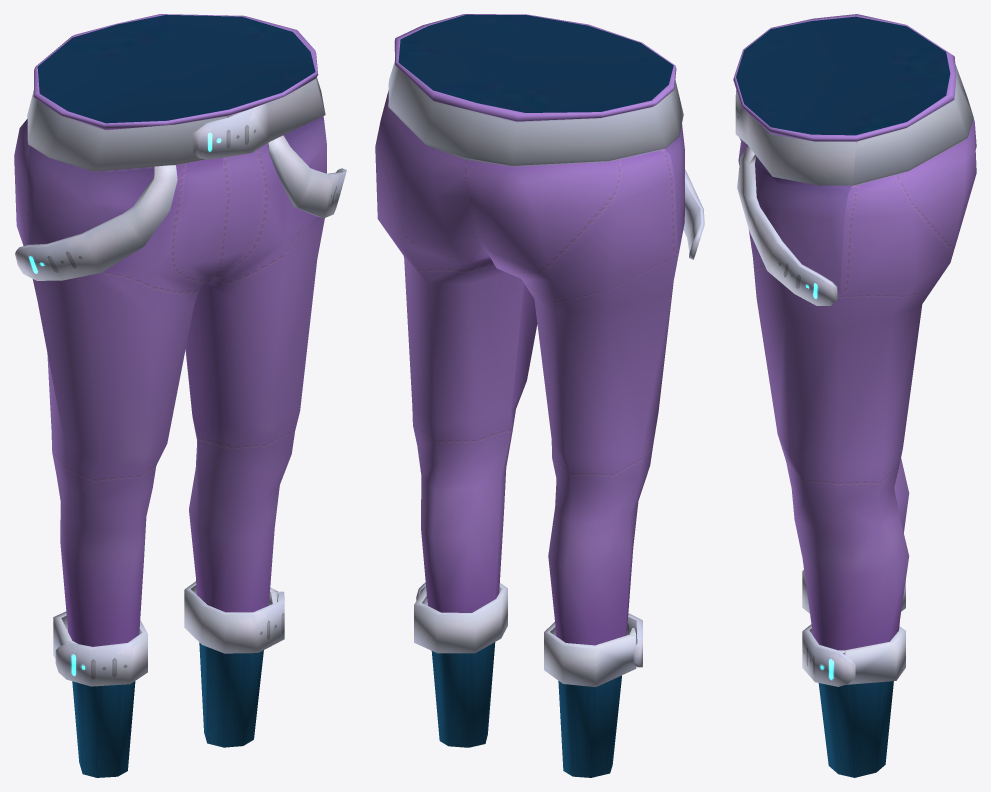
Rendered from F_lBody_daBPants.glb.
3 views of the same model, side by side, from view 1: azimuth 30°, elevation 25°; view 2: azimuth 150°, elevation 25°; view 3: azimuth 270°, elevation 25° (orthographic). The views are drawn at different scales.
Visible parts, largest first — view 1: F_lBody_BaggyPants_01.001; view 2: F_lBody_BaggyPants_01.001; view 3: F_lBody_BaggyPants_01.001.
Boxes of the visible parts, x1=… form: F_lBody_BaggyPants_01.001: x1=14, y1=14, x2=346, y2=777; F_lBody_BaggyPants_01.001: x1=375, y1=14, x2=704, y2=777; F_lBody_BaggyPants_01.001: x1=733, y1=14, x2=976, y2=777.
Size of the model in its own units: 0.4612 by 0.9347 by 0.31.
1 material, 1 textured.
